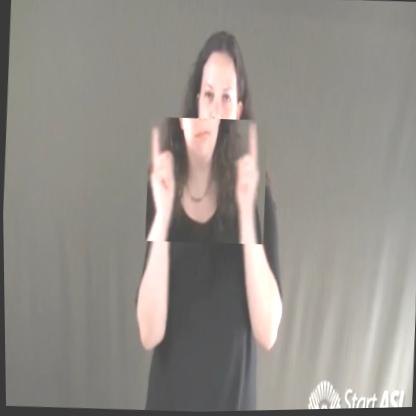NiceToMeetYou: (143, 115, 268, 247)
